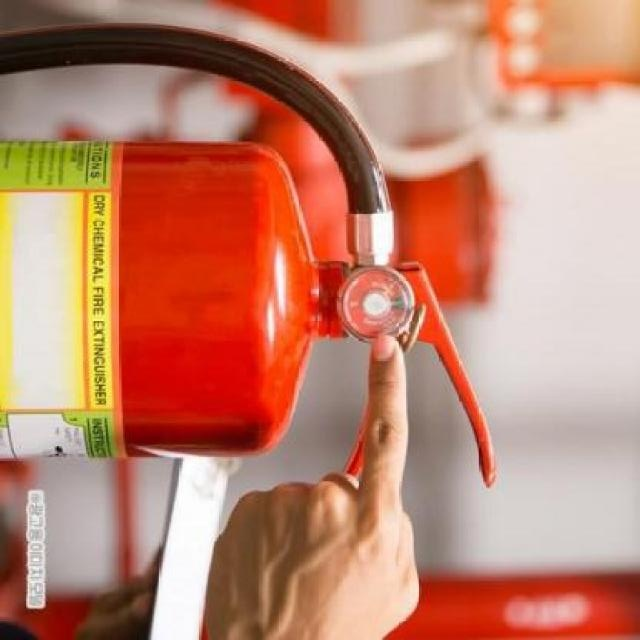fire extinguisher: (0, 23, 499, 489)
